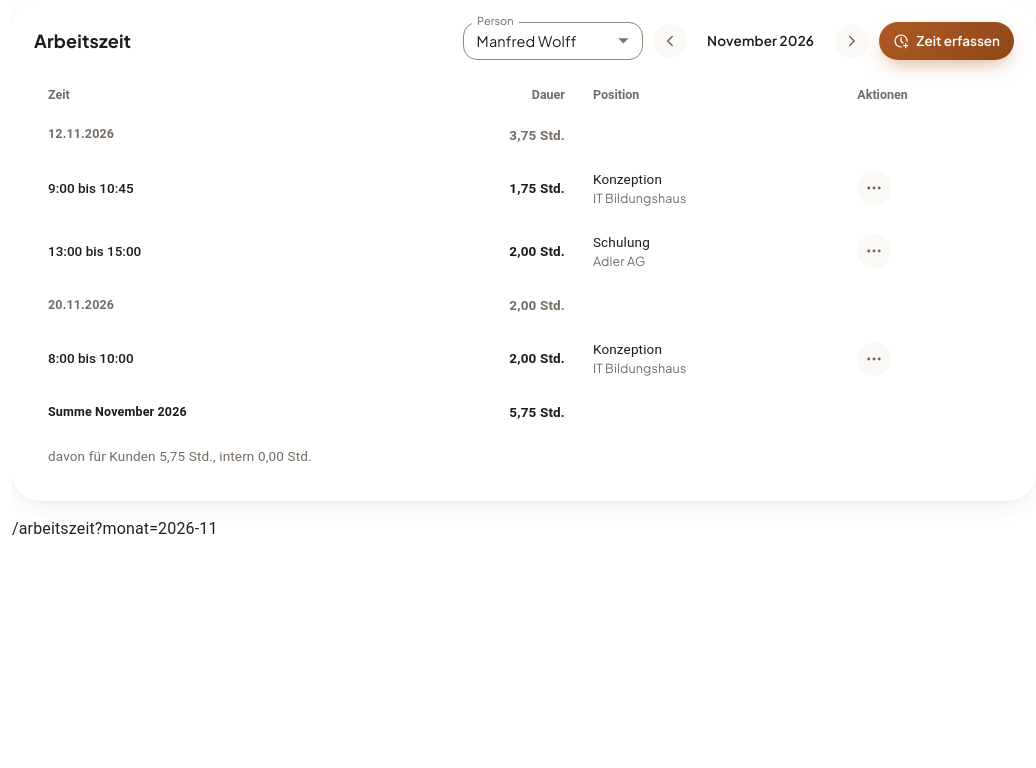
ArbeitszeitPage — Personen (Plan #426, E10, E14, E17) › schreibt den Wechsel am Umschalter als ?person= in die Adresse und behaelt den Monat
Select "Ben Berger" in the dropdown labelled "Person": {"x": 553, "y": 41} [463,22,643,60]
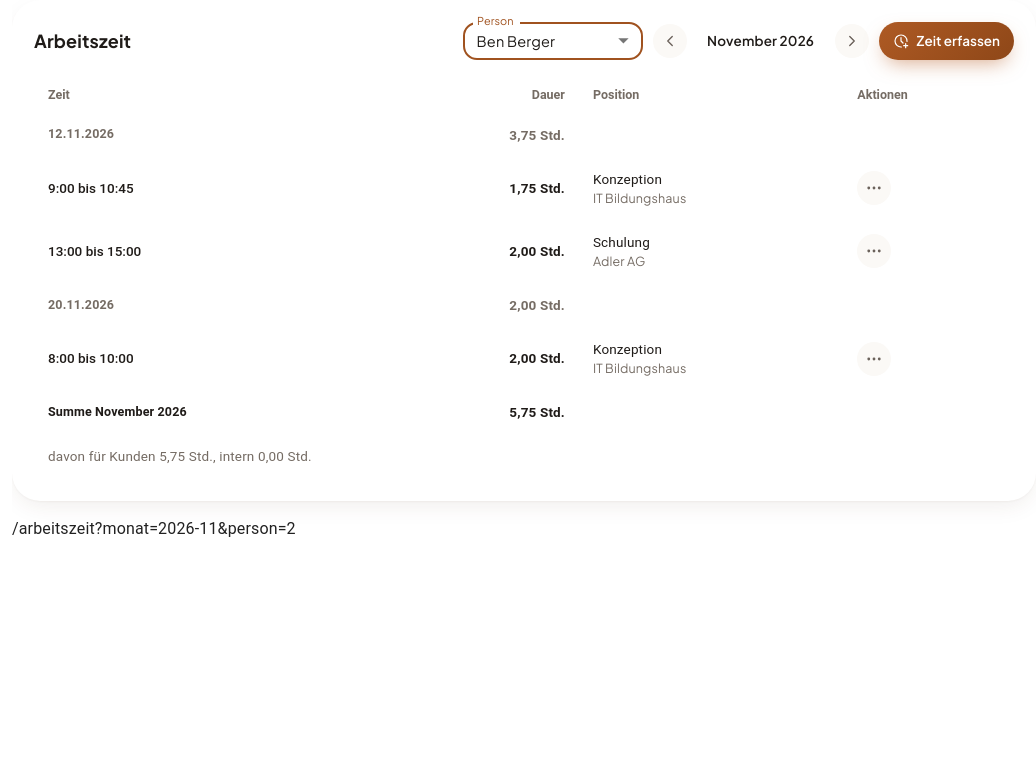
Now the text with test id "adresse" reads "/arbeitszeit?monat=2026-11&person=2", box [12,519,296,538]
